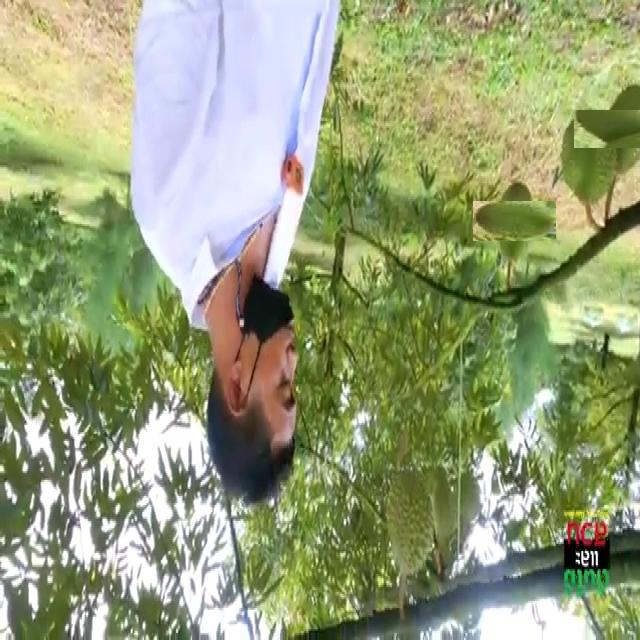durian: (558, 104, 618, 208), (382, 472, 434, 574), (483, 190, 546, 252), (588, 96, 640, 163)
